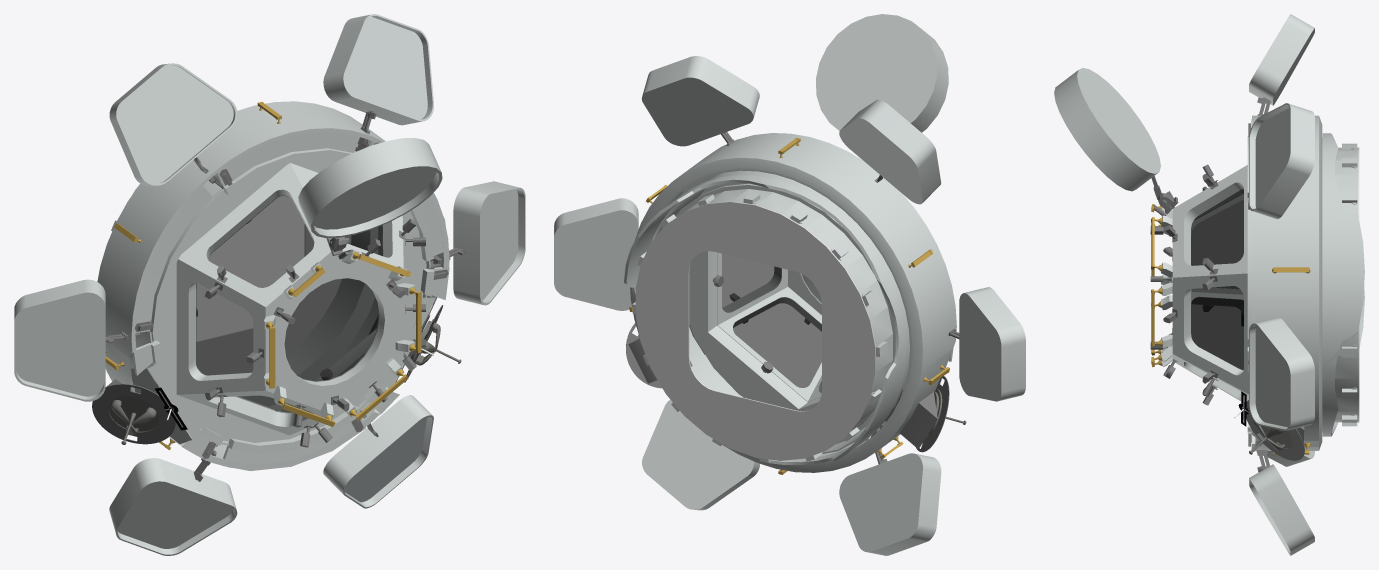
The model's file is Cupola.FBX.
3 renders of one model, left to right at view 1: azimuth 30°, elevation 25°; view 2: azimuth 150°, elevation 25°; view 3: azimuth 270°, elevation 25°, orthographic. The views are drawn at different scales.
Visible parts, largest first — view 1: cupola_open_structure, cupola_open_window, Cap_Side_Win_5, Cap_Top_Win, Cap_Side_Win_4, Cap_Side_Win_6, Cap_Side_Win_3, Cap_Side_Win_1, Cap_Side_Win_2, Cover_Hatch_side, cupola_closing_mech, Graple_fixture_disc (+4 smaller); view 2: cupola_open_structure, Cover_Hatch_side, Cap_Top_Win, Cap_Side_Win_3, cupola_open_window, Cap_Side_Win_1, Cap_Side_Win_6, Cap_Side_Win_2, Cap_Side_Win_4, Cap_Side_Win_5, Graple_fixture_disc, cupola_handrails (+1 smaller); view 3: cupola_open_structure, Cap_Top_Win, cupola_open_window, Cap_Side_Win_1, Cap_Side_Win_6, Cap_Side_Win_2, Cap_Side_Win_5, cupola_closing_mech, Handrail_mounts, Handrails_Top, Graple_fixture_disc, Grapple_fixture_inner (+2 smaller).
Part boxes in pixels (x1,y1,x2,y2): cupola_open_structure: (97, 101, 449, 470); cupola_open_window: (196, 195, 382, 412); Cap_Side_Win_5: (109, 63, 237, 186); Cap_Top_Win: (298, 138, 442, 238); Cap_Side_Win_4: (14, 279, 105, 401); Cap_Side_Win_6: (323, 14, 433, 125); Cap_Side_Win_3: (109, 458, 237, 555); Cap_Side_Win_1: (453, 181, 525, 305); Cap_Side_Win_2: (323, 395, 433, 508); Cover_Hatch_side: (133, 187, 350, 374); cupola_closing_mech: (204, 218, 425, 447); Graple_fixture_disc: (92, 305, 443, 444); cupola_open_structure: (624, 133, 956, 472); Cover_Hatch_side: (635, 201, 875, 460); Cap_Top_Win: (816, 14, 948, 132); Cap_Side_Win_3: (839, 453, 941, 555); cupola_open_window: (722, 254, 821, 392); Cap_Side_Win_1: (554, 198, 638, 310); Cap_Side_Win_6: (641, 56, 759, 146); Cap_Side_Win_2: (642, 399, 759, 510); Cap_Side_Win_4: (959, 287, 1025, 401); Cap_Side_Win_5: (839, 99, 941, 204); Graple_fixture_disc: (626, 323, 949, 452); cupola_handrails: (629, 137, 949, 474); cupola_open_structure: (1172, 115, 1364, 451); Cap_Top_Win: (1054, 68, 1160, 191); cupola_open_window: (1191, 189, 1243, 369); Cap_Side_Win_1: (1249, 317, 1314, 430); Cap_Side_Win_6: (1249, 103, 1314, 219); Cap_Side_Win_2: (1249, 464, 1314, 555); Cap_Side_Win_5: (1249, 14, 1314, 105); cupola_closing_mech: (1150, 164, 1218, 405); Handrail_mounts: (1161, 207, 1172, 366); Handrails_Top: (1151, 204, 1162, 367); Graple_fixture_disc: (1246, 400, 1304, 460); Grapple_fixture_inner: (1253, 421, 1292, 450).
Bounding box in the file's own units: 4.54 × 4.17 × 2.61.
